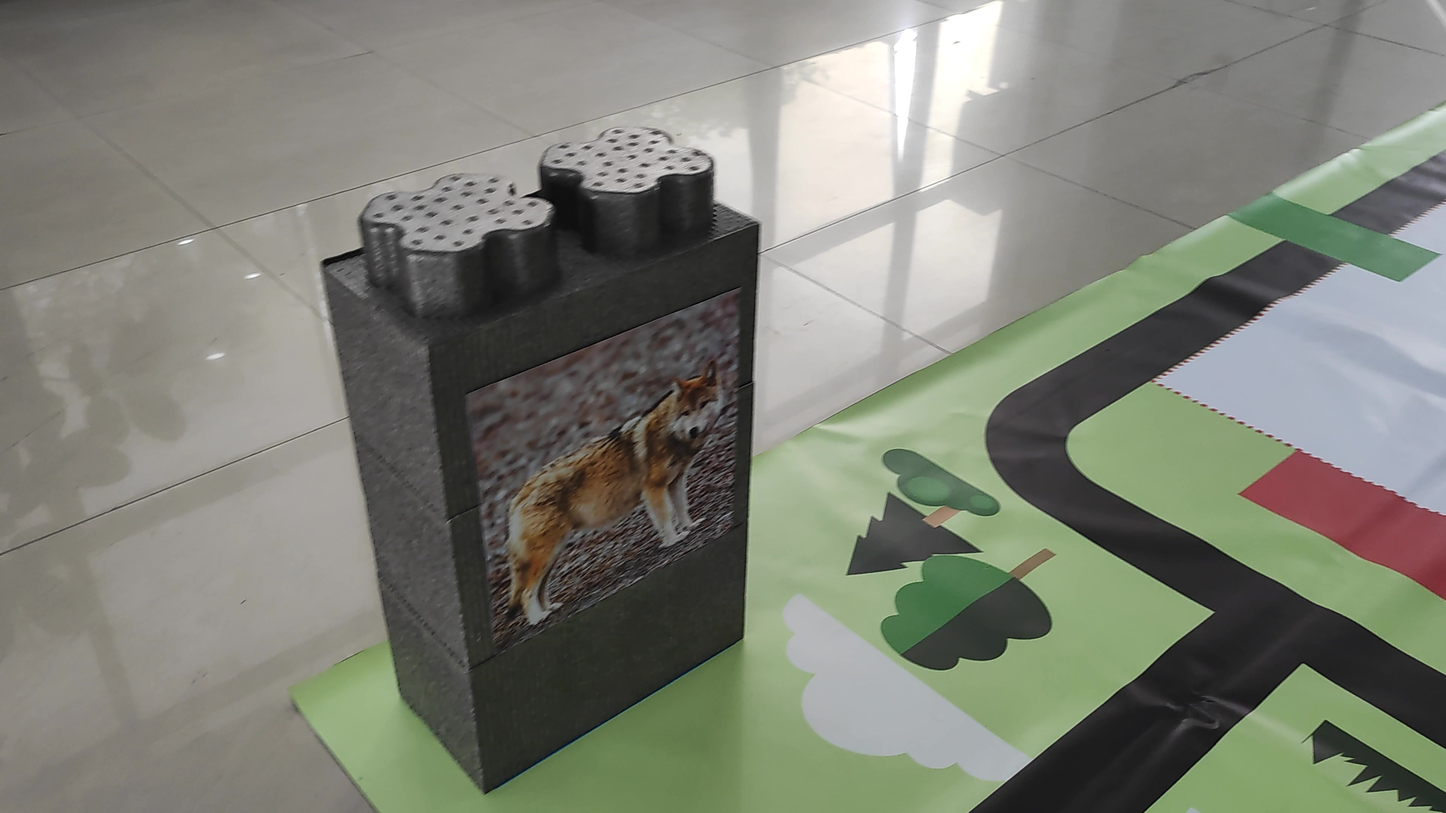wolf: (506, 352, 746, 609)
